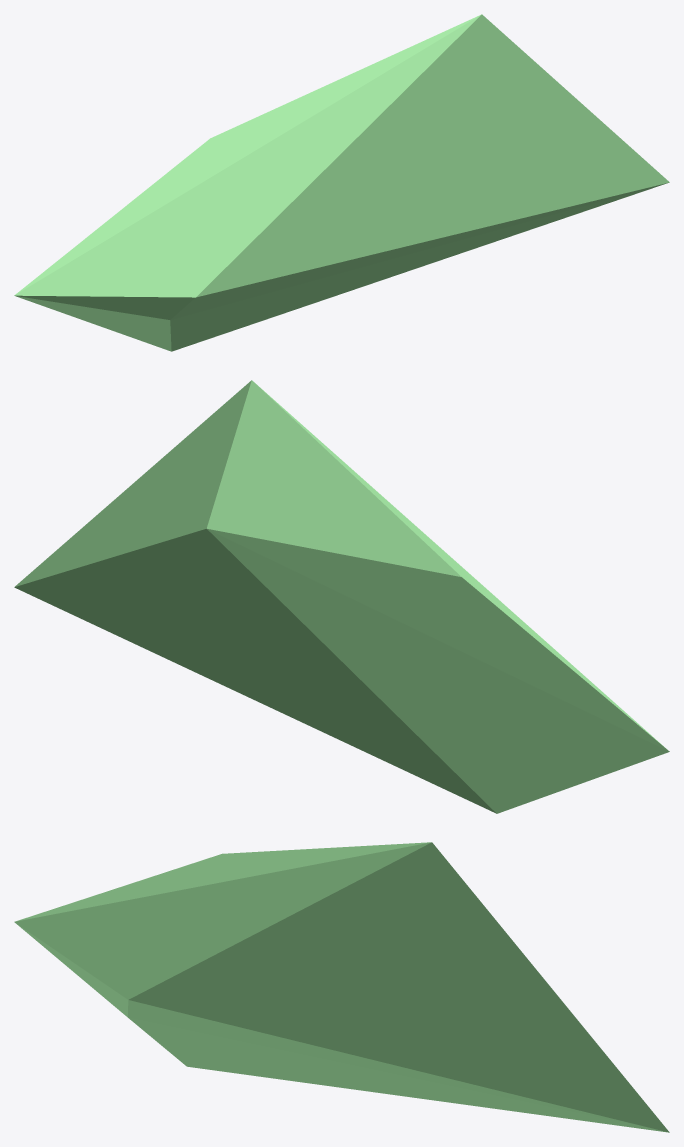
Rendered from linkhou_LR4_R560_link2_respondable_coll_16.dae.
3 views of the same model, one above another, from view 1: azimuth 30°, elevation 25°; view 2: azimuth 150°, elevation 25°; view 3: azimuth 330°, elevation 25° (orthographic). The views are drawn at different scales.
Parts seen in each view (by area): view 1: Node_00000209DB3AA780; view 2: Node_00000209DB3AA780; view 3: Node_00000209DB3AA780.
Part boxes in pixels (<box>): Node_00000209DB3AA780: <box>14,14,669,351</box>; Node_00000209DB3AA780: <box>14,380,669,813</box>; Node_00000209DB3AA780: <box>14,842,669,1132</box>.
Size of the model in its own units: 0.0893 by 0.0411 by 0.0104.
